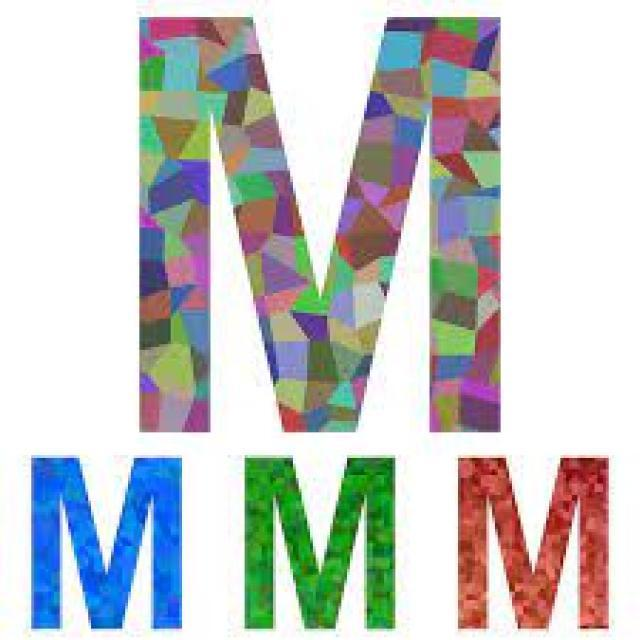M: (133, 10, 508, 438), (237, 448, 400, 632), (453, 451, 615, 635), (26, 450, 184, 629)
